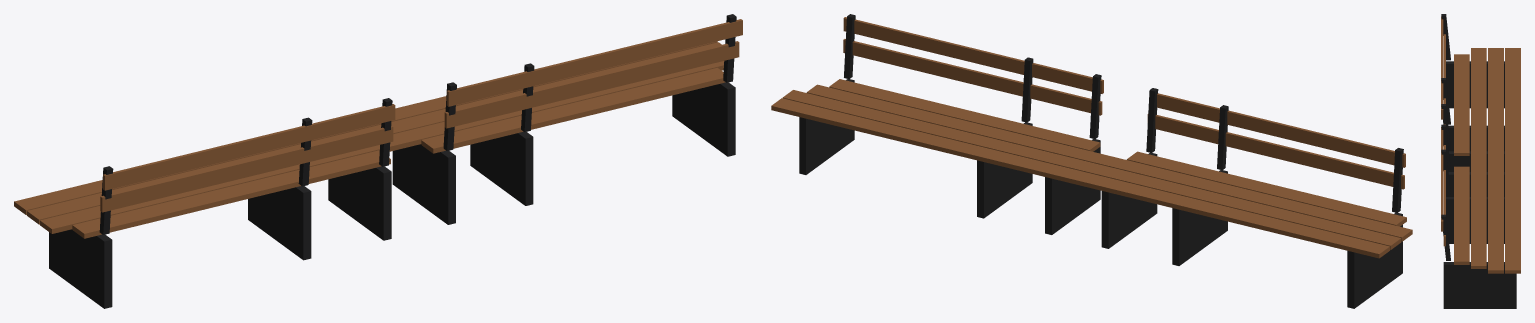
3 views of the same model, side by side, from view 1: azimuth 30°, elevation 25°; view 2: azimuth 150°, elevation 25°; view 3: azimuth 270°, elevation 25° (orthographic). The views are drawn at different scales.
Parts seen in each view (by area): view 1: parametric-variant-bench-3rd-683e5491324b79dd8115; view 2: parametric-variant-bench-3rd-683e5491324b79dd8115; view 3: parametric-variant-bench-3rd-683e5491324b79dd8115.
Boxes of the visible parts, bbox=[...] form: parametric-variant-bench-3rd-683e5491324b79dd8115: bbox=[14, 14, 742, 308]; parametric-variant-bench-3rd-683e5491324b79dd8115: bbox=[771, 14, 1412, 308]; parametric-variant-bench-3rd-683e5491324b79dd8115: bbox=[1441, 14, 1520, 308].
Bounding box in the file's own units: 4.4 × 0.85 × 0.6674.
